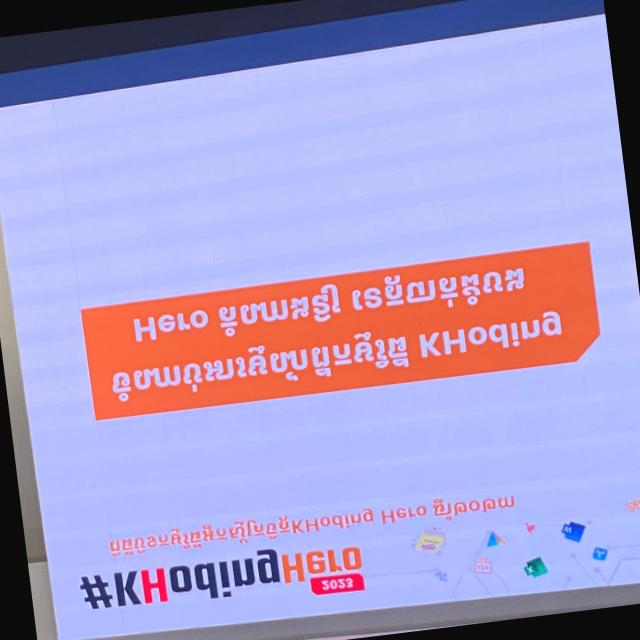1: (217, 257, 532, 340)
649: (318, 574, 358, 592)
Yolov11_80vkh: (106, 323, 416, 412), (99, 507, 290, 568), (427, 486, 521, 525)
